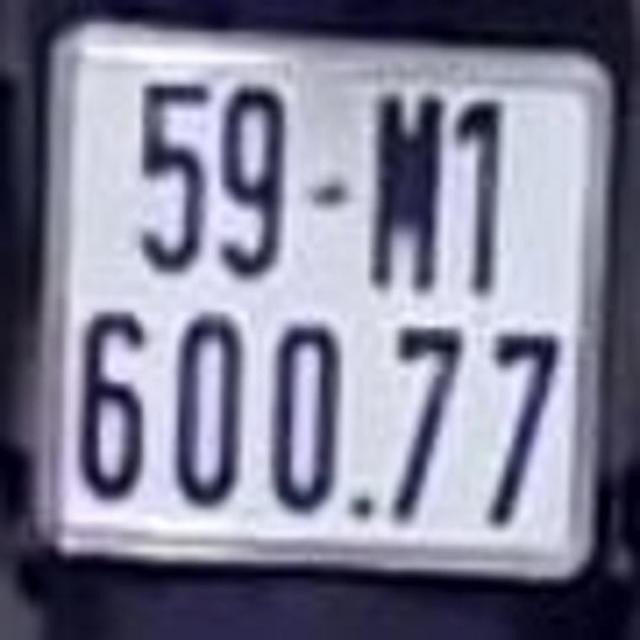0: (268, 314, 344, 521), (169, 300, 243, 510)
1: (456, 87, 516, 300)
5: (135, 79, 209, 272)
6: (73, 302, 154, 509)
7: (481, 313, 567, 529), (389, 312, 467, 525)
9: (216, 84, 284, 279)
H: (373, 90, 451, 293)
